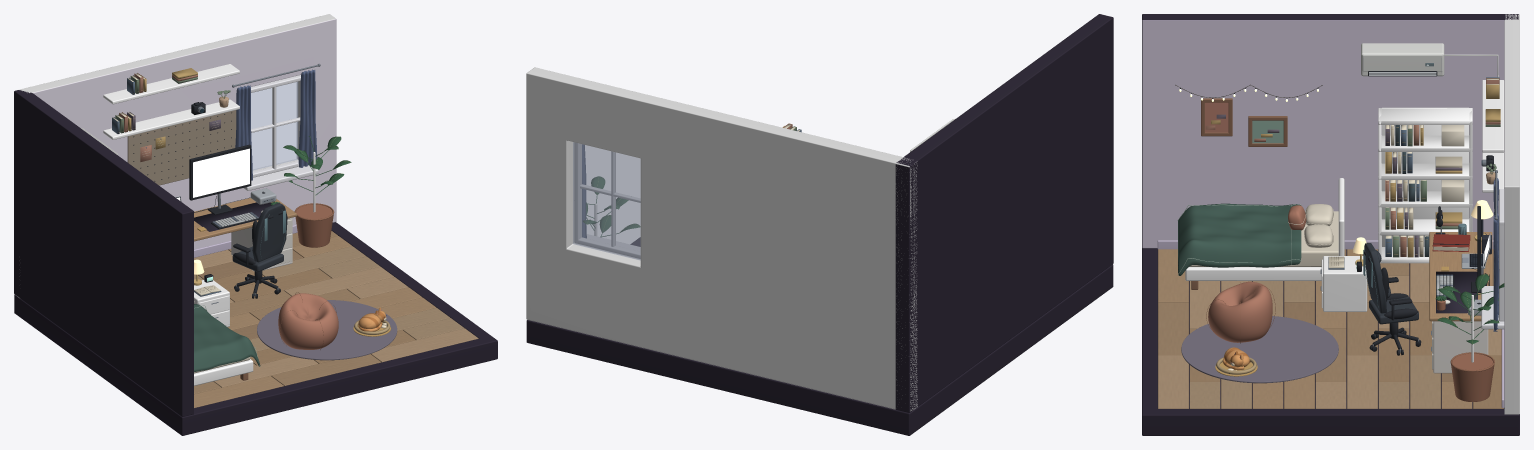
Rendered from room-day-baked-sample.glb.
3 views of the same model, side by side, from view 1: azimuth 30°, elevation 25°; view 2: azimuth 150°, elevation 25°; view 3: azimuth 270°, elevation 25° (orthographic). The views are drawn at different scales.
Parts seen in each view (by area): view 1: V2_Room_LeftWall, V2_Room_RearWall, V2_Room_Plinth, V2_Block_Pegboard, V2_Block_Rug, V2_Room_Glass | Day, V2_Soft_Beanbag, V2_Detail_GamingChair, V2_Soft_DrapedQuilt, Computer_Screen, V2_Soft_PleatedCurtain1, V2_Room_Board_00_02 (+28 smaller); view 2: V2_Room_RearWall, V2_Room_LeftWall, V2_Room_Plinth, V2_Room_Glass | Day, V2_Room_WindowStile.001; view 3: V2_Room_LeftWall, V2_Room_Plinth, Bookshelf, V2_Soft_DrapedQuilt, V2_Block_Rug, V2_Room_RearWall, V2_Soft_Beanbag, V2_Detail_GamingChair, AirConditioner, V2_Block_Nightstand, V2_Block_DeskCabinet, V2_Block_DeskTop (+45 smaller).
Part boxes in pixels (x1,y1,x2,y2): V2_Room_LeftWall: (14,90,193,416); V2_Room_RearWall: (16,14,336,297); V2_Room_Plinth: (14,222,497,435); V2_Block_Pegboard: (127,110,236,185); V2_Block_Rug: (257,300,397,360); V2_Room_Glass | Day: (251,81,298,170); V2_Soft_Beanbag: (278,293,338,349); V2_Detail_GamingChair: (232,203,287,298); V2_Soft_DrapedQuilt: (194,304,260,371); Computer_Screen: (193,148,249,197); V2_Soft_PleatedCurtain1: (298,69,317,167); V2_Room_Board_00_02: (371,328,478,362); V2_Room_RearWall: (526,67,917,411); V2_Room_LeftWall: (895,14,1113,412); V2_Room_Plinth: (526,237,1113,435); V2_Room_Glass | Day: (573,142,640,260); V2_Room_WindowStile.001: (575,142,581,242); V2_Room_LeftWall: (1142,14,1518,248); V2_Room_Plinth: (1142,248,1519,435); Bookshelf: (1378,107,1472,263); V2_Soft_DrapedQuilt: (1178,203,1301,275); V2_Block_Rug: (1181,316,1338,383); V2_Room_RearWall: (1504,14,1519,414); V2_Soft_Beanbag: (1208,281,1272,342); V2_Detail_GamingChair: (1363,243,1421,355); AirConditioner: (1361,43,1444,76); V2_Block_Nightstand: (1323,256,1367,311); V2_Block_DeskCabinet: (1433,321,1488,373); V2_Block_DeskTop: (1429,232,1492,321).
Size of the model in its own units: 5.2 by 3.5 by 4.8.
Materials: 80 (8 with a texture image).
